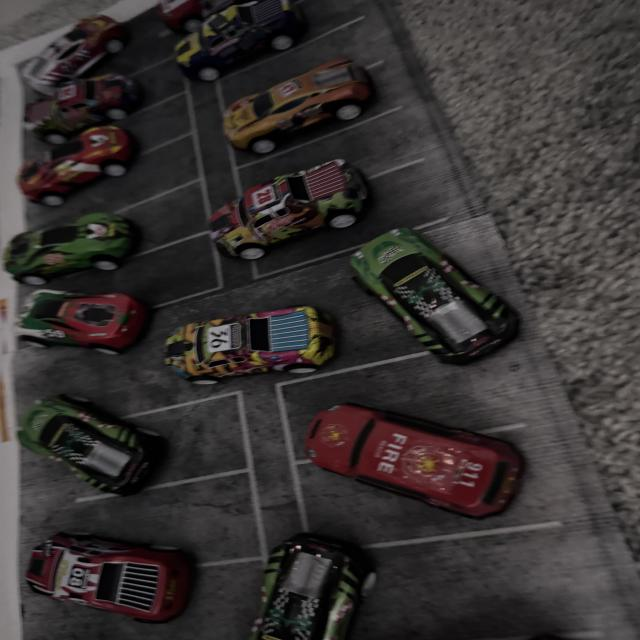Car: (346, 226, 592, 394), (284, 382, 594, 498), (163, 148, 394, 298), (10, 362, 156, 491), (179, 286, 355, 388), (0, 206, 138, 324), (38, 541, 205, 638), (200, 64, 406, 140), (224, 522, 342, 640), (0, 23, 120, 121), (0, 136, 125, 226), (18, 286, 164, 356), (0, 65, 126, 127)
